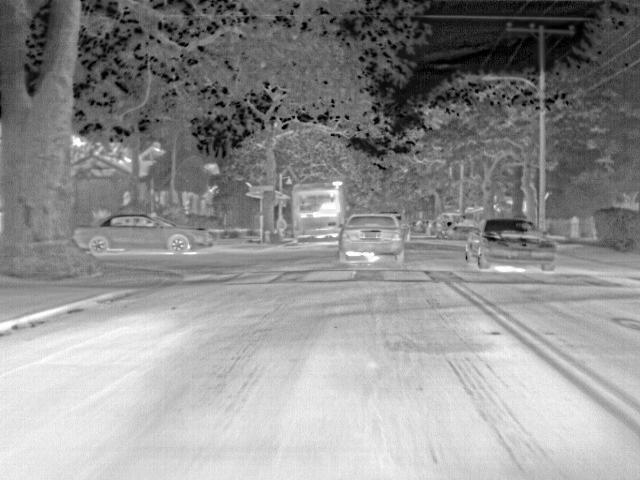car: (73, 211, 216, 255), (464, 218, 558, 273), (337, 212, 407, 265), (378, 209, 412, 243), (445, 219, 482, 241)
person: (274, 213, 289, 239)
